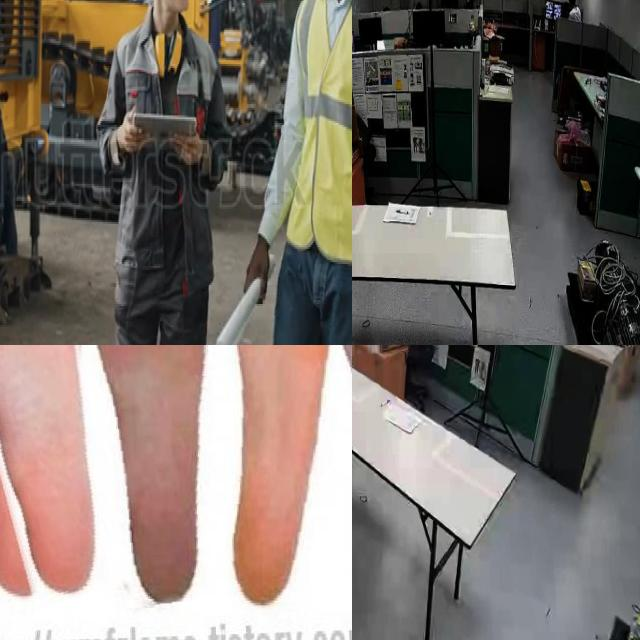Barefoots: (87, 345, 222, 625), (218, 345, 321, 622), (0, 345, 106, 613)
Ear-protection: (149, 20, 184, 81)
person: (95, 0, 238, 345), (232, 0, 352, 345)
vest: (290, 0, 352, 258)
